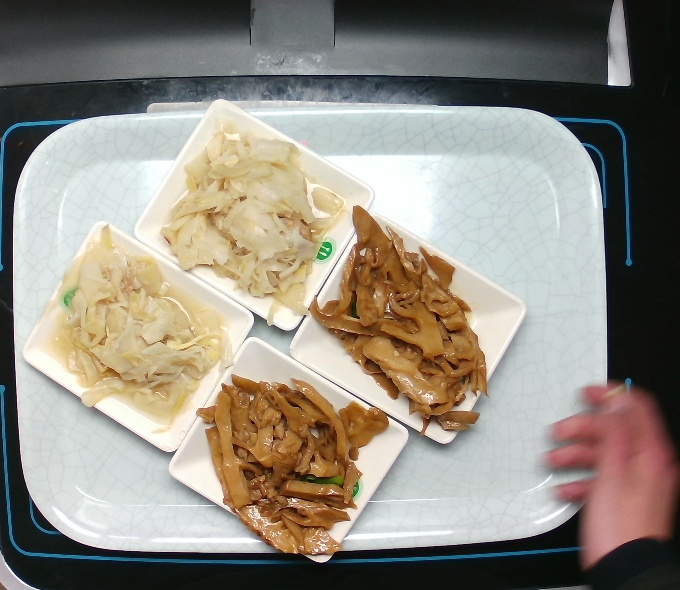wcq-LuSun: (153, 122, 357, 330), (46, 220, 229, 423)
wcq-SunGan: (303, 194, 501, 441), (190, 364, 393, 562)
